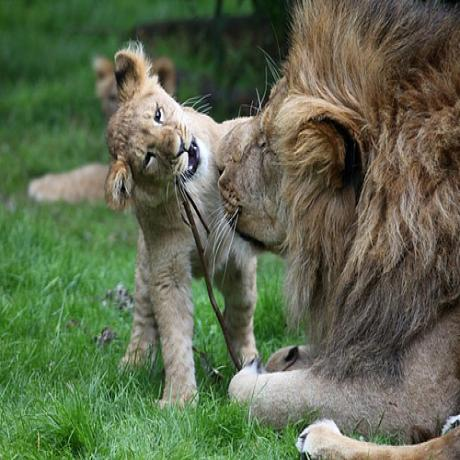Lion: (218, 0, 460, 459), (103, 51, 249, 388)
